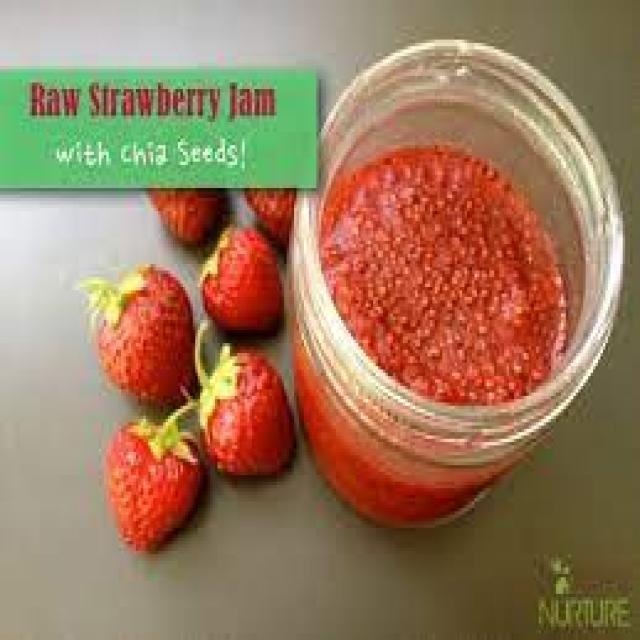strawberry: (77, 260, 201, 408), (200, 353, 301, 476), (110, 414, 198, 553), (193, 220, 293, 340)
